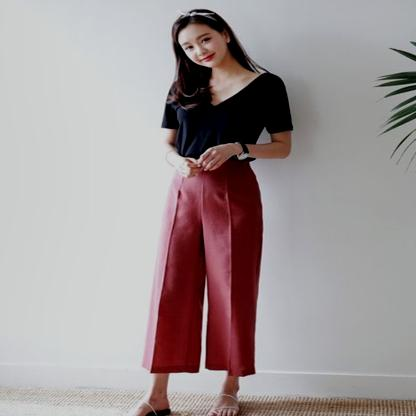dress: (138, 154, 268, 376), (164, 69, 288, 160)
